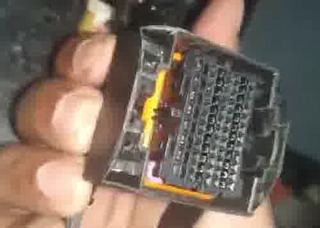connector: (83, 24, 290, 218)
